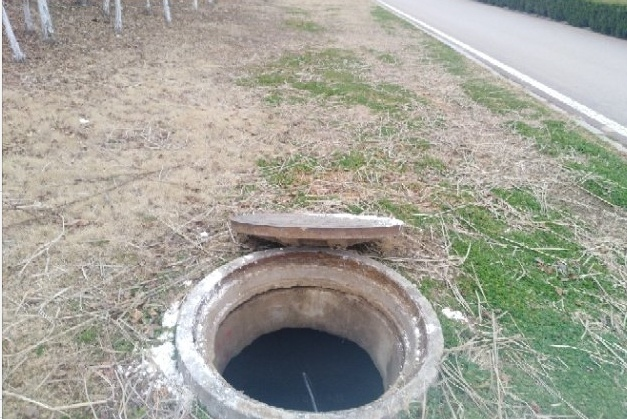uncovered: (177, 212, 443, 419)
